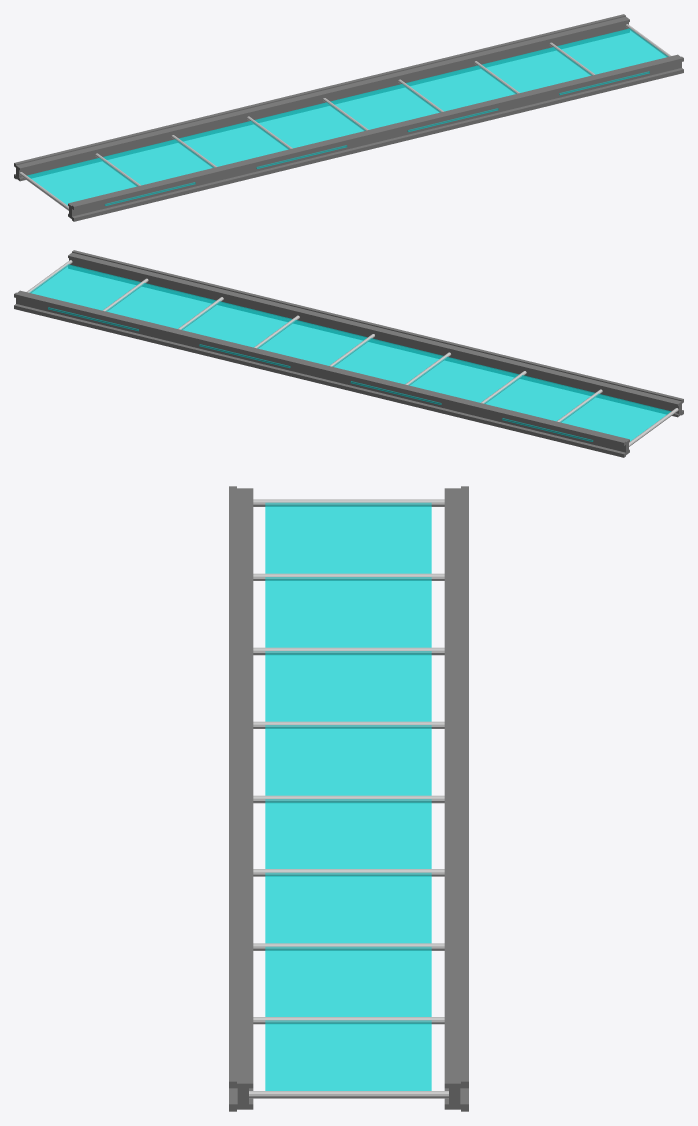
The model's file is mediumPlatform.fbx.
3 views of the same model, one above another, from view 1: azimuth 30°, elevation 25°; view 2: azimuth 150°, elevation 25°; view 3: azimuth 270°, elevation 25° (orthographic). The views are drawn at different scales.
Parts seen in each view (by area): view 1: leftEnd (×4), rightEnd (×4), plate2 (×4), plate1 (×4); view 2: rightEnd (×4), leftEnd (×4), plate2 (×4), plate1 (×4); view 3: plate2 (×4), plate1 (×4), leftEnd (×4), rightEnd (×4), holder3 (×4), holder2 (×4), holder1.
Part boxes in pixels (x1,y1,x2,y2): leftEnd (×4): [68, 54, 683, 221]; rightEnd (×4): [14, 14, 629, 181]; plate2 (×4): [103, 28, 668, 185]; plate1 (×4): [27, 47, 592, 205]; rightEnd (×4): [14, 290, 629, 457]; leftEnd (×4): [68, 250, 683, 417]; plate2 (×4): [29, 264, 594, 421]; plate1 (×4): [105, 283, 670, 441]; plate2 (×4): [265, 577, 431, 1090]; plate1 (×4): [265, 502, 431, 1016]; leftEnd (×4): [229, 486, 253, 1111]; rightEnd (×4): [444, 486, 468, 1111]; holder3 (×4): [249, 647, 448, 1098]; holder2 (×4): [253, 573, 444, 1024]; holder1: [253, 499, 444, 506].
Bounding box in the file's own units: 56.51 × 1.33 × 9.63.
